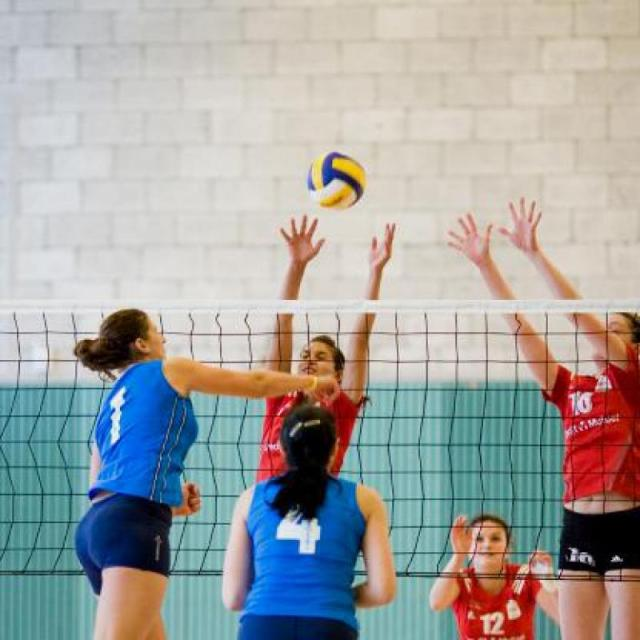volleyball: (304, 150, 368, 212)
